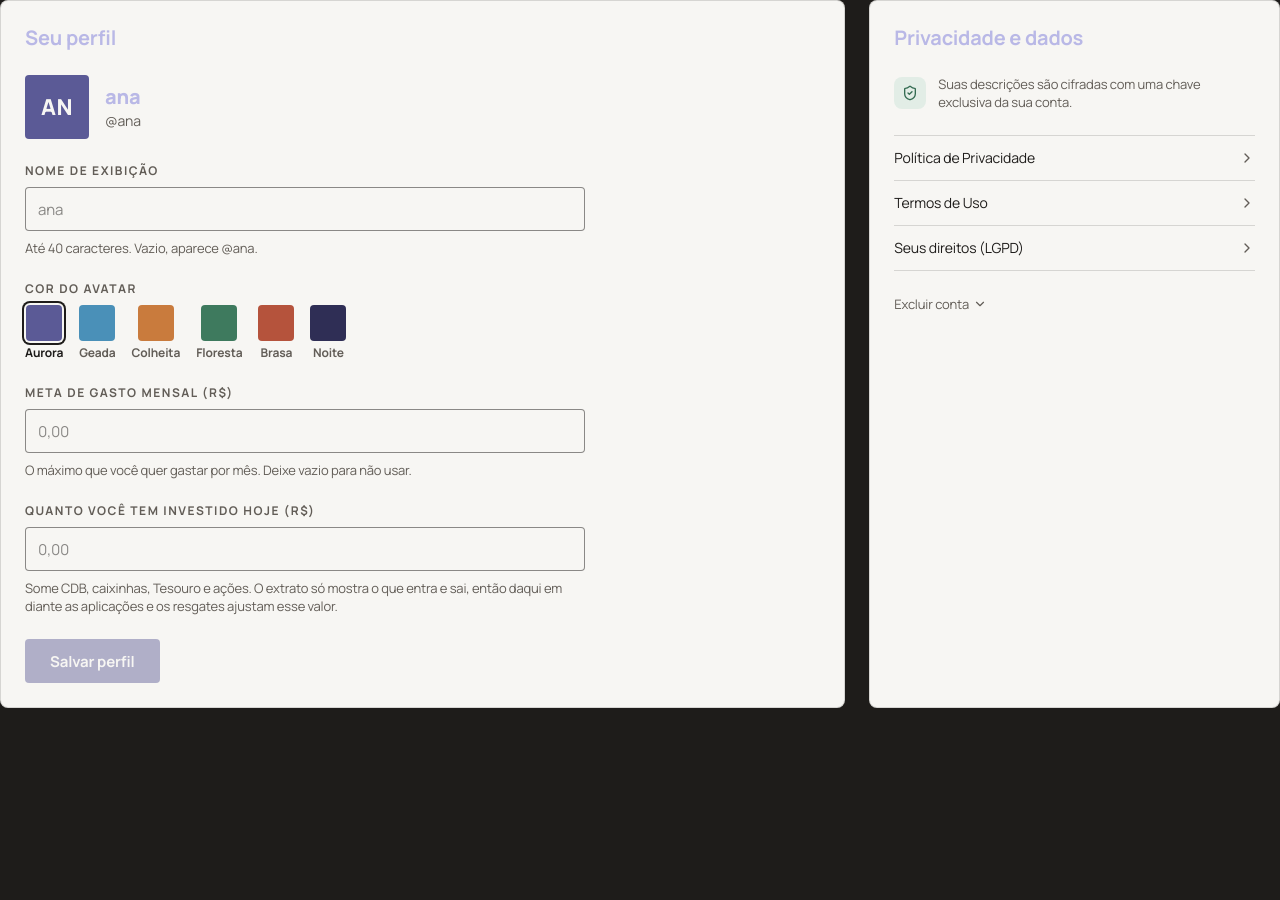
Test case: ProfilePage › saves how much the user has invested today and shows the day it was told
The width and height of the screenshot is (1280, 900).
Expected: the field labelled "Nome de exibição" is shown, [25,187,585,231]
Type "4.250,00" into the field labelled "Quanto você tem investido hoje (R$)".
click(305, 549); type("4.250,00")  # box [25,527,585,571]
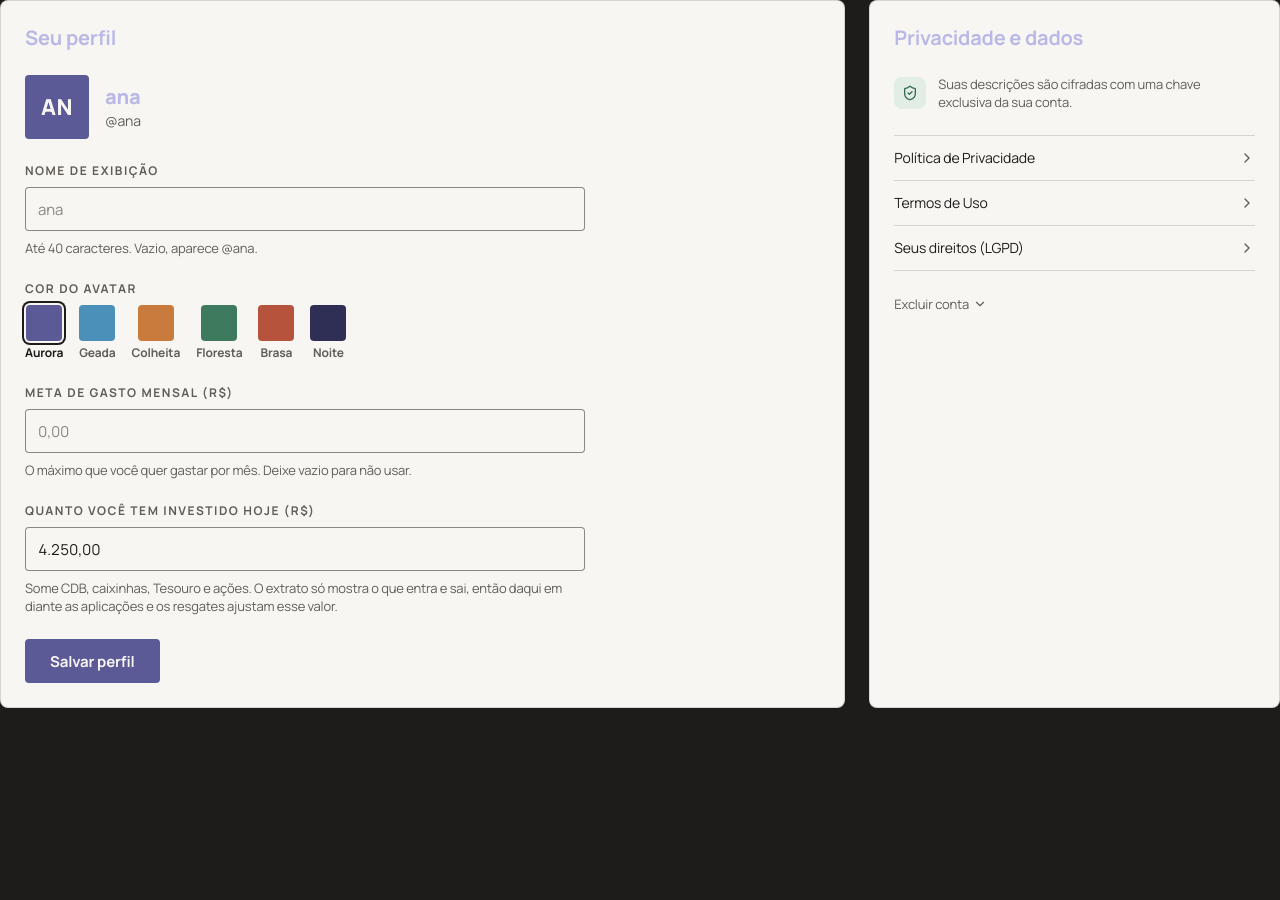
Click the button "Salvar perfil".
click(92, 661)  # box [25,639,160,683]
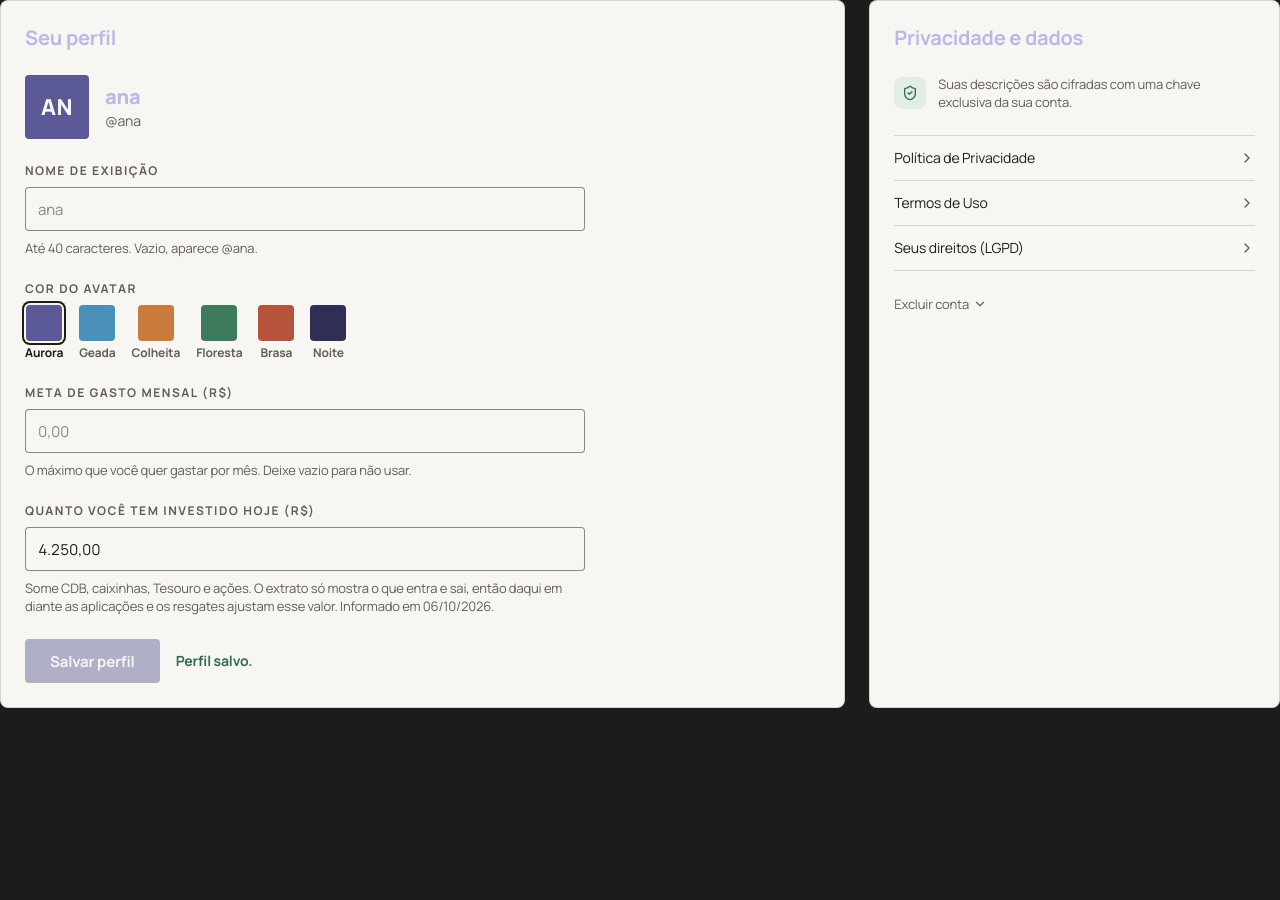
Result: the text "Perfil salvo." is shown at [176,651,252,671]
Result: the text "informado em 06/10/2026" is shown at [338,597,494,615]
